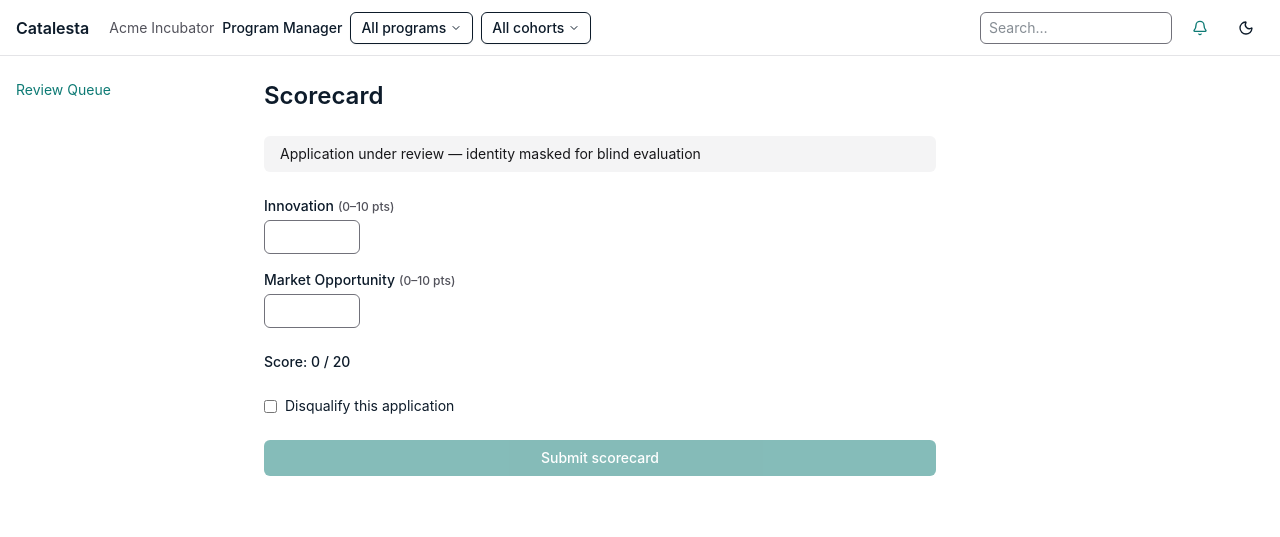
shows a validation error alert when submit returns 422
This screenshot has width=1280, height=537.
# Fill all criteria so Submit is enabled
Type "5" into the number field named "Score for Innovation" at (312, 237), box [264,220,360,254]
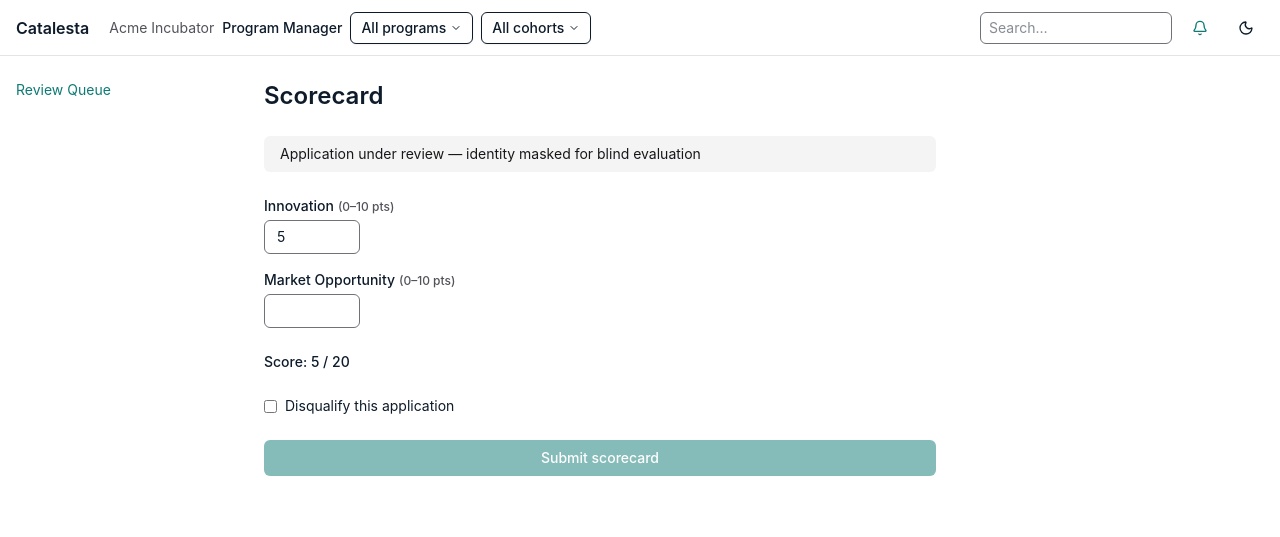
Type "8" into the number field named "Score for Market Opportunity" at (312, 311), box [264,294,360,328]
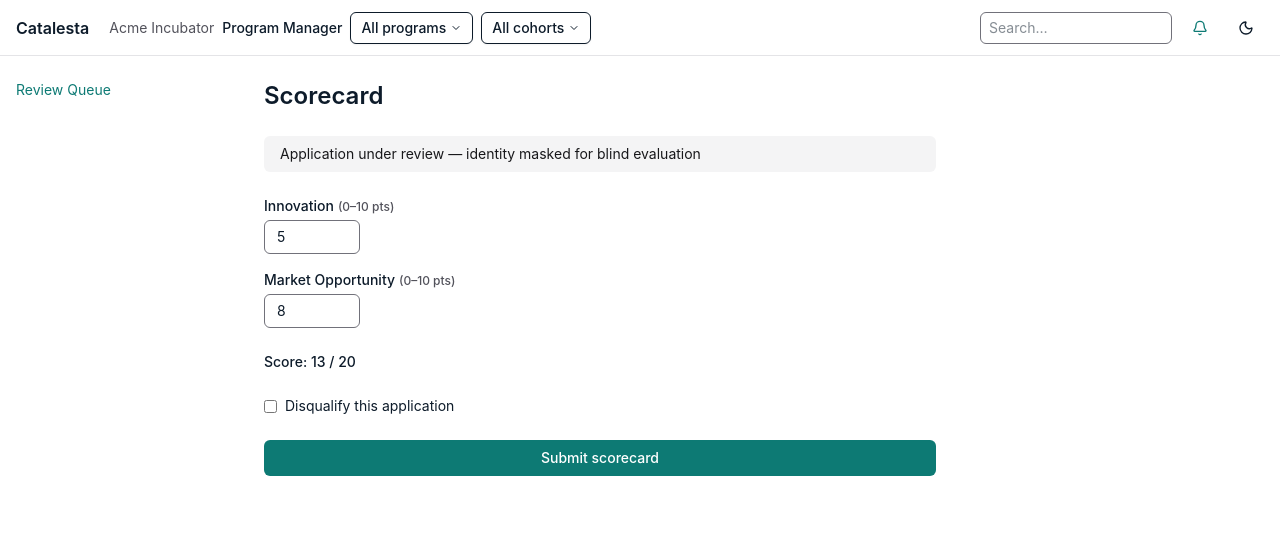
Click the button "Submit scorecard" at (600, 458), box [264,440,936,476]
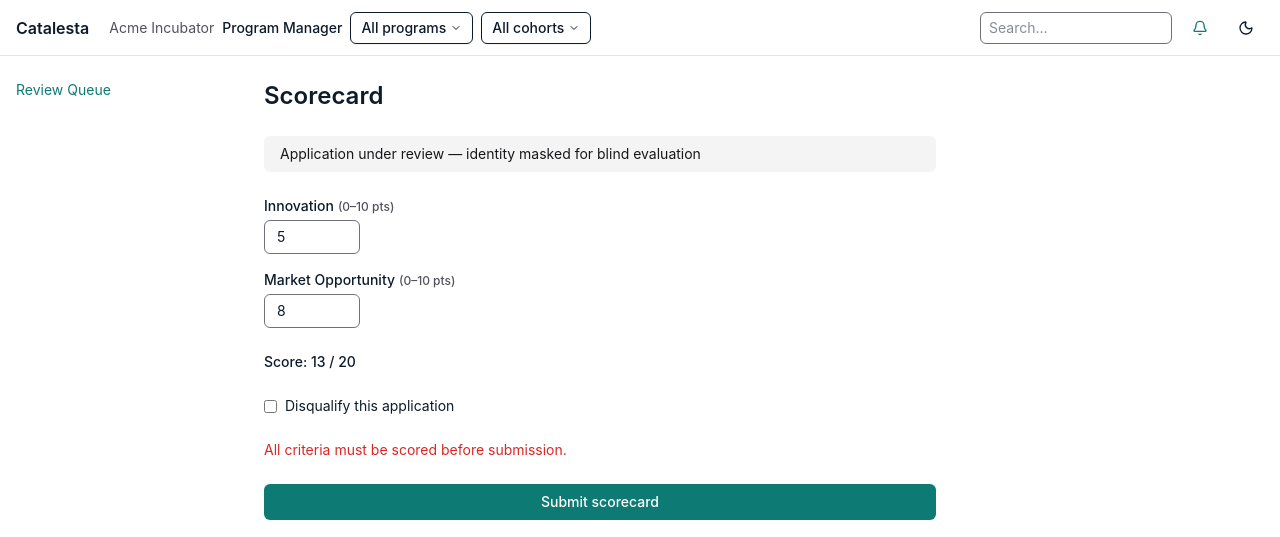
Check: the message reads "All criteria must be scored before submission.", box [264,441,567,458]
